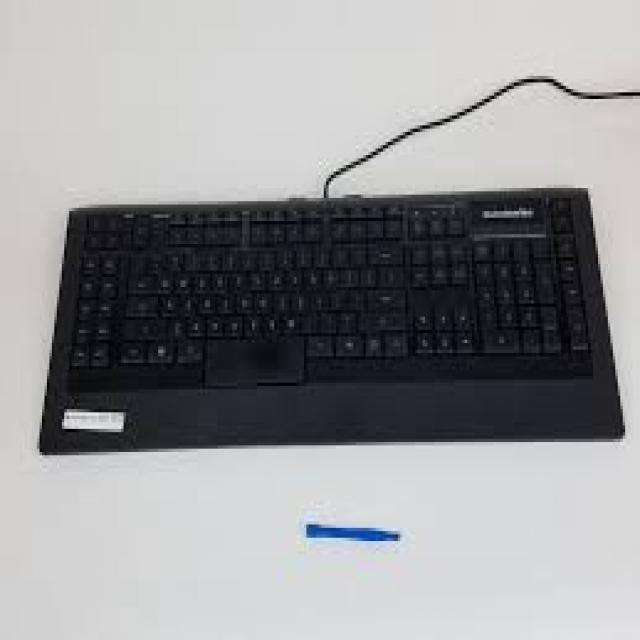keyboard: (69, 192, 598, 390)
